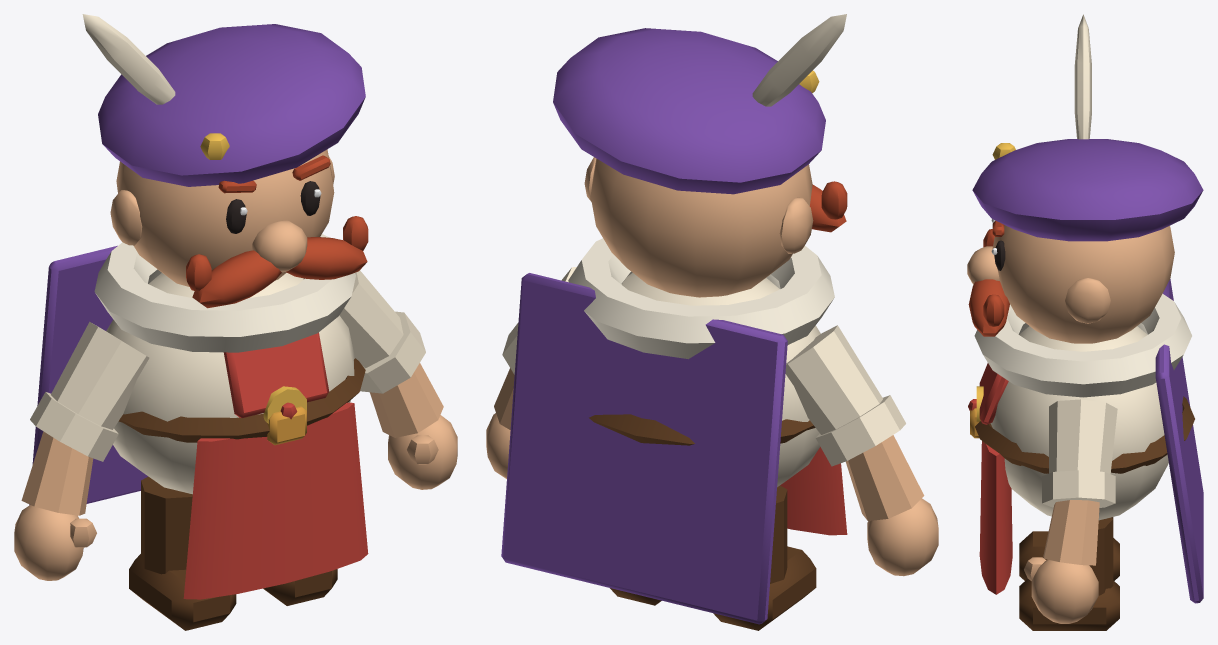
The model's file is CH_Costume_Barlo_Kral.fbx.
3 views of the same model, side by side, from view 1: azimuth 30°, elevation 25°; view 2: azimuth 150°, elevation 25°; view 3: azimuth 270°, elevation 25° (orthographic). The views are drawn at different scales.
Visible parts, largest first — view 1: CH_Costume_Barlo_Kral; view 2: CH_Costume_Barlo_Kral; view 3: CH_Costume_Barlo_Kral.
Part boxes in pixels (left/top/right/bottom): CH_Costume_Barlo_Kral: left=14, top=14, right=457, bottom=630; CH_Costume_Barlo_Kral: left=486, top=14, right=938, bottom=630; CH_Costume_Barlo_Kral: left=967, top=14, right=1203, bottom=630.
Bounding box in the file's own units: 0.9352 × 1.27 × 0.5157.
Materials: 1 (1 with a texture image).
